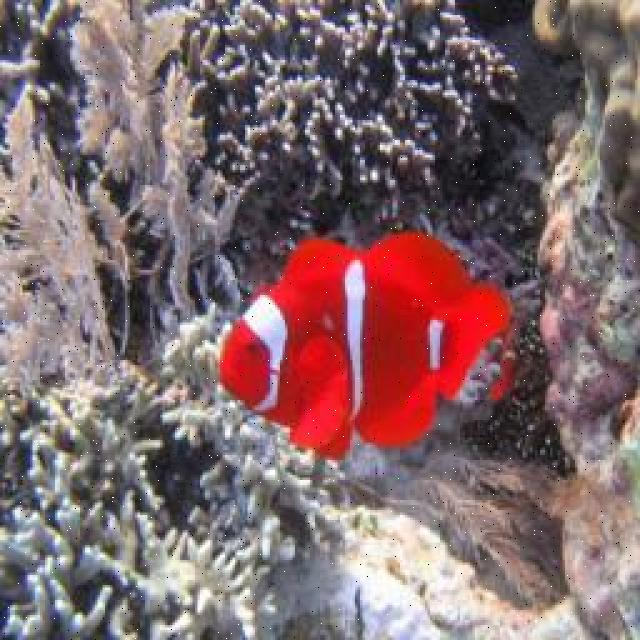fish: (218, 232, 515, 457), (487, 343, 517, 399)
reefs: (0, 304, 364, 638), (186, 0, 524, 222), (0, 1, 97, 180)
